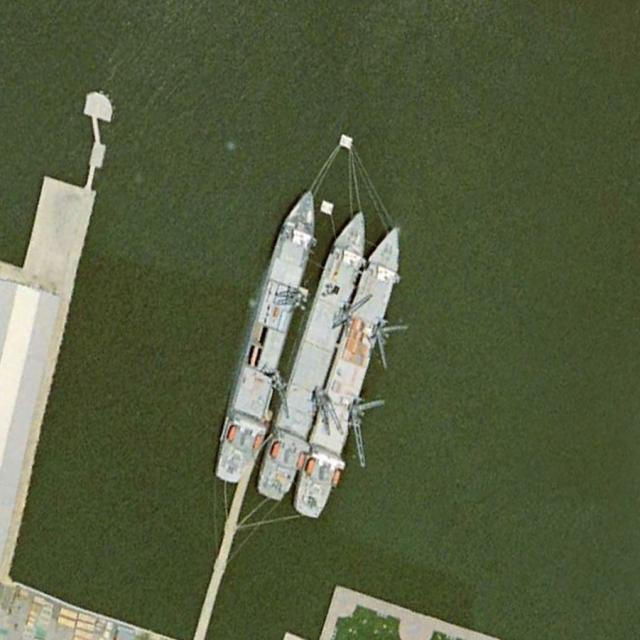Cargo: (288, 217, 418, 525), (251, 205, 376, 504), (211, 181, 329, 490)
